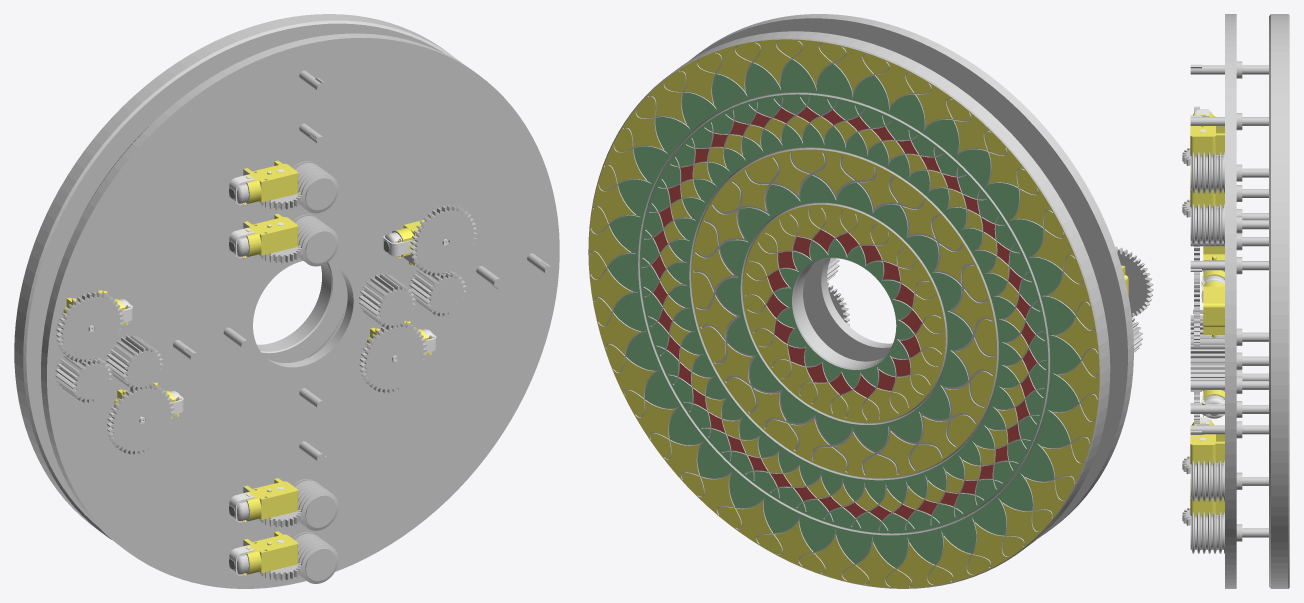
File: dripmotion (2).glb
The picture shows the model from 3 angles, left to right: view 1: azimuth 30°, elevation 25°; view 2: azimuth 150°, elevation 25°; view 3: azimuth 270°, elevation 25°; orthographic projection. The views are drawn at different scales.
Parts seen in each view (by area): view 1: Node5, Node6, Node4, Node2, Node9, Node7, Node3, Node14, Node1, Node15; view 2: Node9, Node17, Node3, Node6, Node11, Node2, Node7, Node4, Node5, Node1; view 3: Node4, Node7, Node2, Node3, Node9, Node1, Node6, Node5, Node14, Node15.
Boxes of the visible parts, x1,y1,x2,y2 form: Node5: (47, 38, 559, 588); Node6: (41, 40, 477, 578); Node4: (26, 23, 497, 583); Node2: (14, 20, 545, 580); Node9: (63, 160, 427, 574); Node7: (14, 14, 449, 580); Node3: (23, 74, 544, 579); Node14: (88, 169, 448, 575); Node1: (57, 70, 550, 580); Node15: (119, 169, 434, 574); Node9: (589, 39, 1128, 588); Node17: (608, 59, 1080, 567); Node3: (593, 18, 1152, 586); Node6: (590, 21, 1153, 586); Node11: (651, 106, 1036, 520); Node2: (588, 37, 1149, 587); Node7: (588, 31, 1143, 588); Node4: (590, 14, 1153, 581); Node5: (590, 42, 1153, 563); Node1: (607, 71, 1151, 556); Node4: (1182, 41, 1242, 588); Node7: (1188, 14, 1289, 588); Node2: (1182, 14, 1289, 588); Node3: (1184, 73, 1270, 588); Node9: (1190, 113, 1224, 516); Node1: (1182, 65, 1268, 552); Node6: (1182, 14, 1242, 553); Node5: (1182, 64, 1242, 553); Node14: (1193, 109, 1224, 440); Node15: (1194, 111, 1224, 421).
Size of the model in its own units: 504 by 500 by 93.13.
